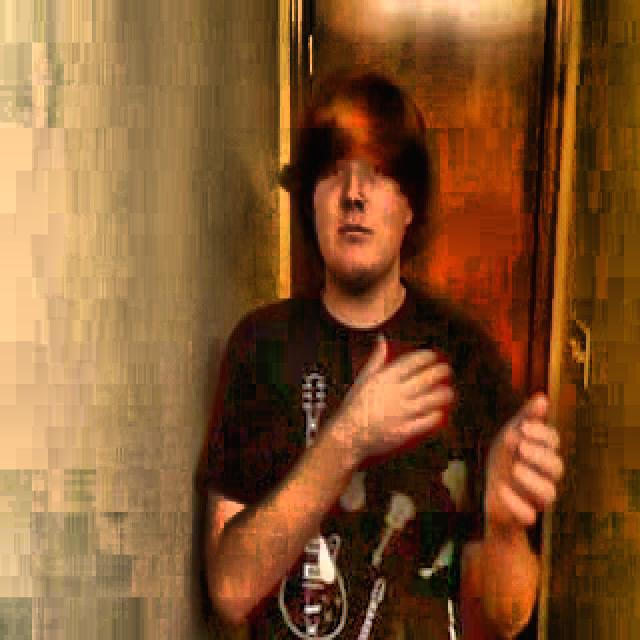F: (193, 56, 545, 640)
